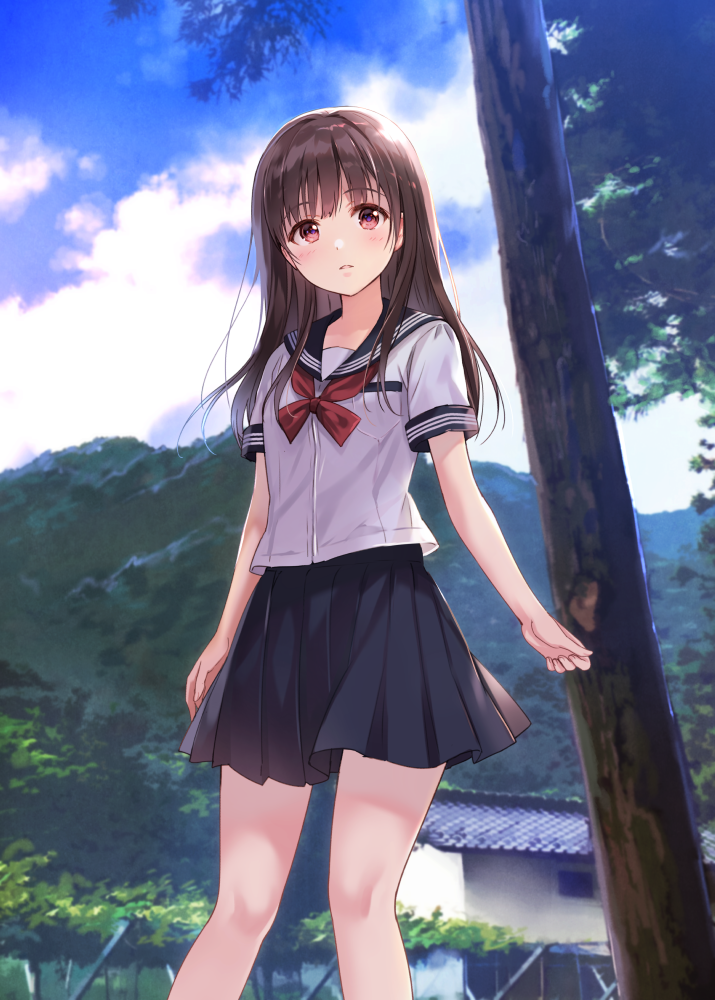纸片人正脸: (251, 102, 435, 303)
